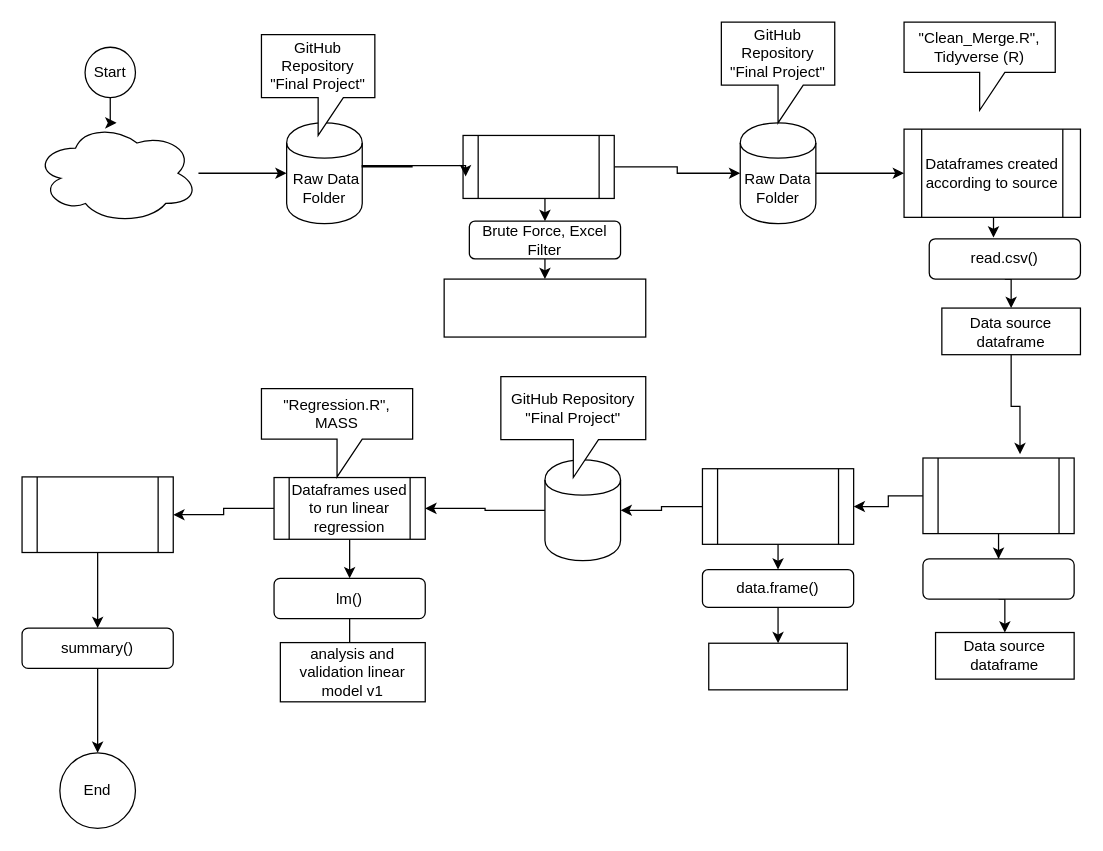
The diagram is 1103 pixels wide and 851 high, and some of its shapes have lost their labels. Here are the shapes that lost their labels. From the top down, the centre of each, then its label:
At (x=115, y=173): "Website Data Downloaded".
At (x=538, y=166): "Needed Variables Selected".
At (x=544, y=307): "CSV files of each datasources with needed variables".
At (x=97, y=514): "Summary statistics".
At (x=582, y=510): "Clean Data Folder".
At (x=777, y=505): "Dataframes used to create analysis or validation set".
At (x=998, y=495): "Variable names changed to be intuitive".
At (x=998, y=578): "name()".
At (x=777, y=666): "validation_data and analysis_data_v1".
